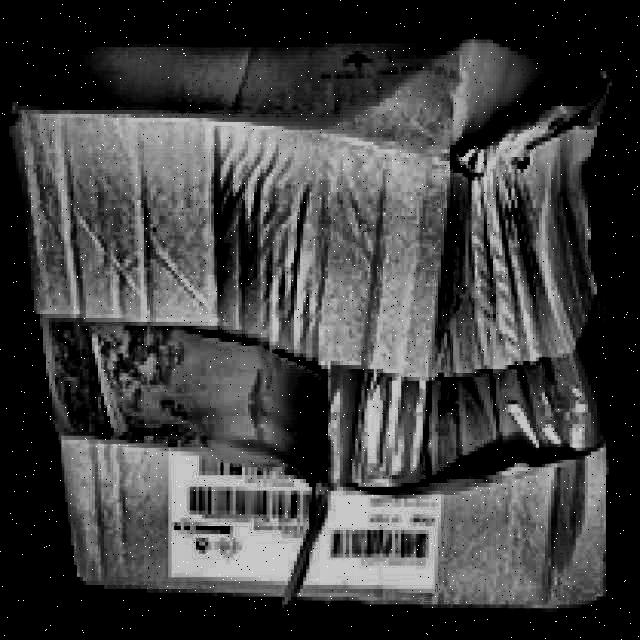box: (10, 42, 617, 604)
hole: (479, 79, 609, 179)
